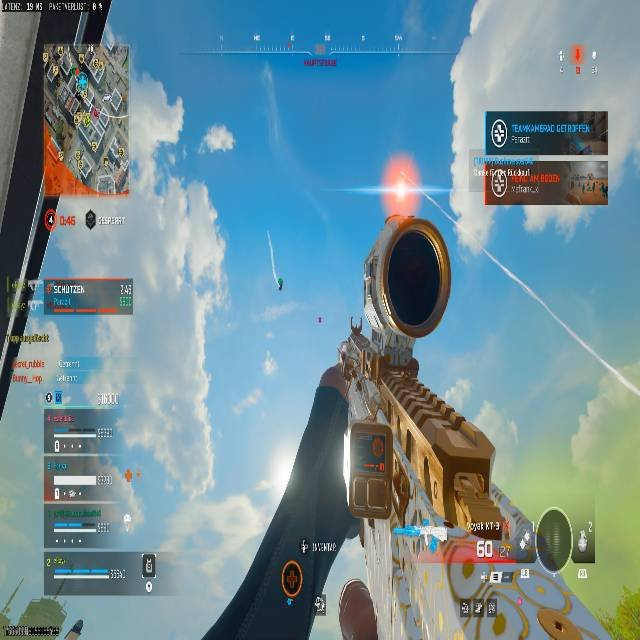head: (17, 596, 66, 639)
